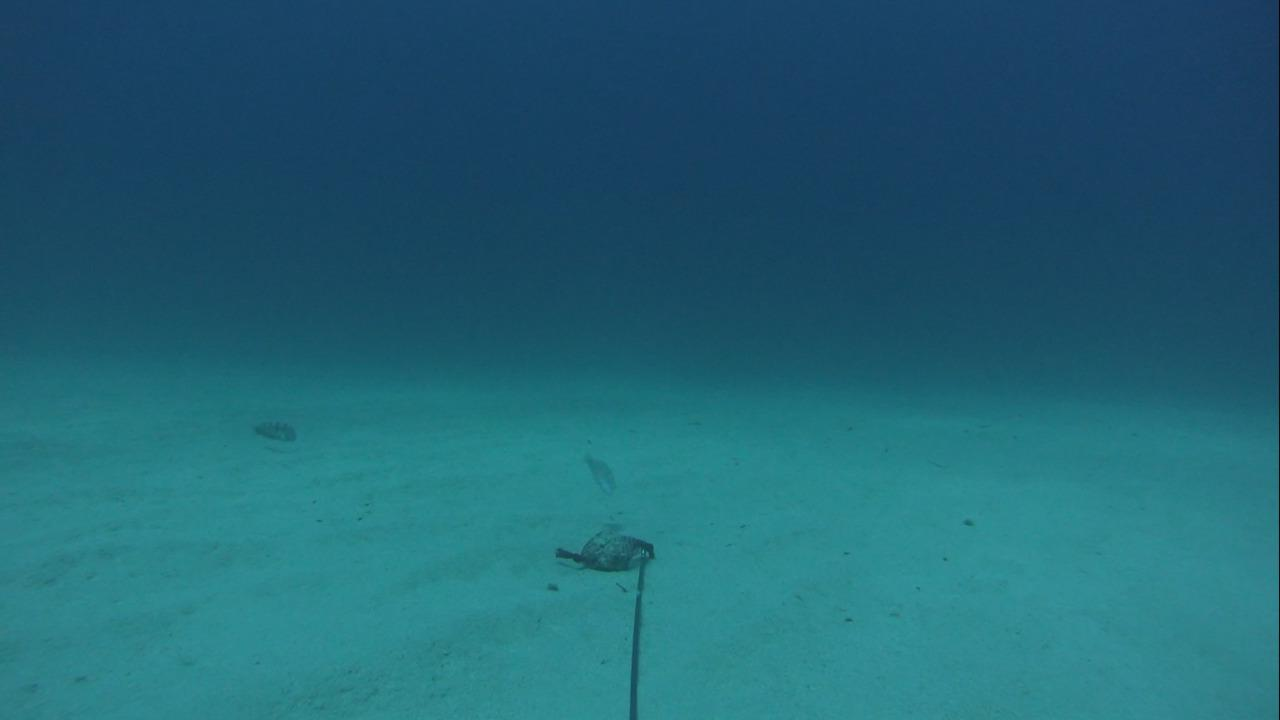raor: (575, 442, 619, 498), (246, 414, 300, 449)
